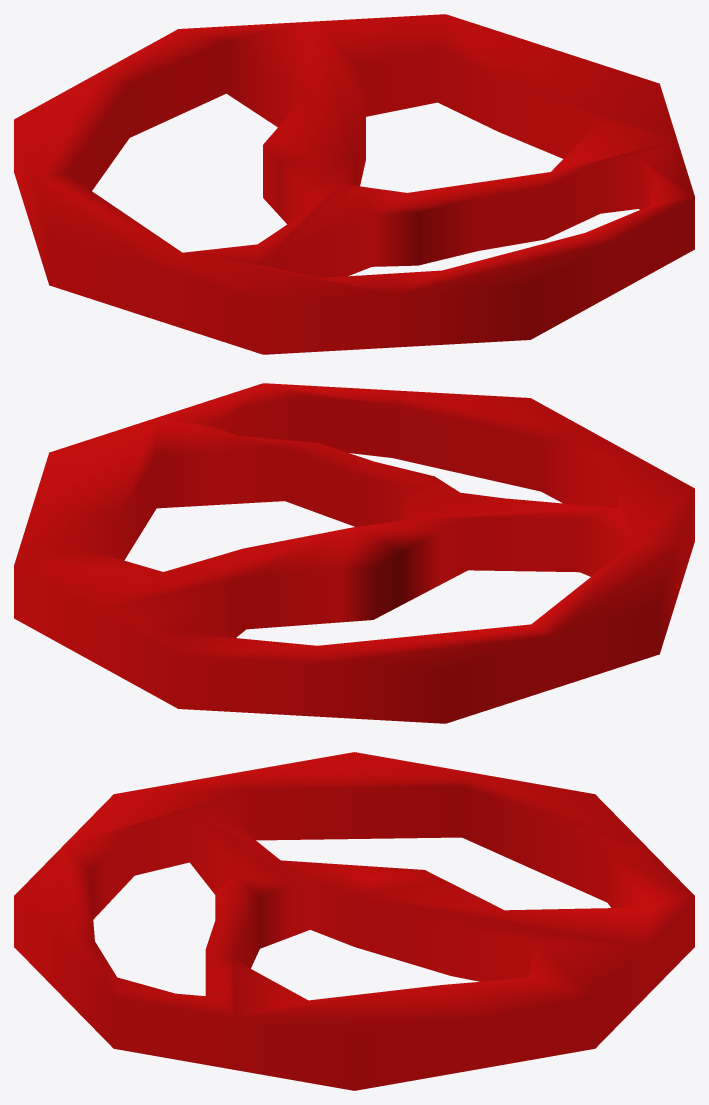
Rendered from SlicedTomato.fbx.
3 renders of one model, top to bottom at view 1: azimuth 30°, elevation 25°; view 2: azimuth 150°, elevation 25°; view 3: azimuth 270°, elevation 25°, orthographic. The views are drawn at different scales.
Visible parts, largest first — view 1: TomatoCut1; view 2: TomatoCut1; view 3: TomatoCut1.
Boxes of the visible parts, x1,y1,x2,y2 form: TomatoCut1: (14,14,694,354); TomatoCut1: (14,383,694,723); TomatoCut1: (14,752,694,1090).
Bounding box in the file's own units: 17.52 × 1.45 × 17.52.
Materials: 1 (1 with a texture image).
